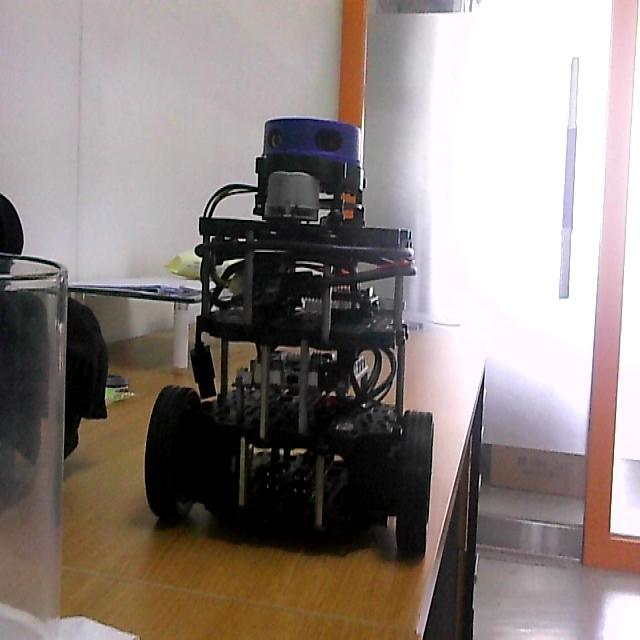turtle: (143, 115, 436, 568)
